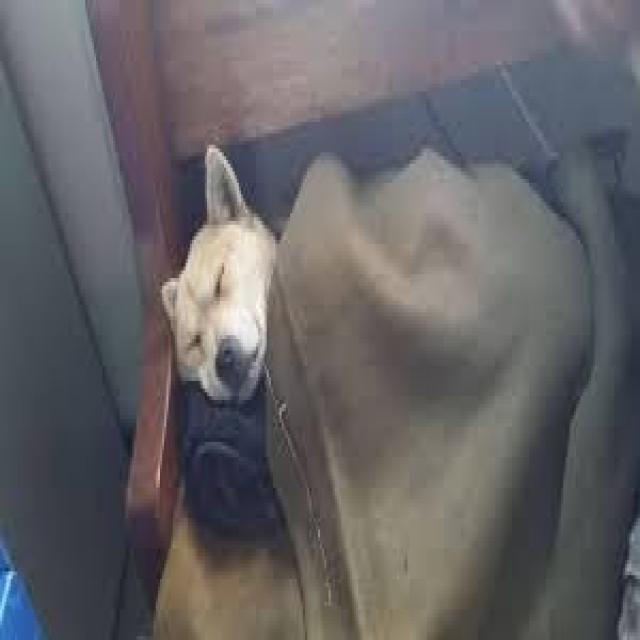dog: (149, 137, 640, 545)
